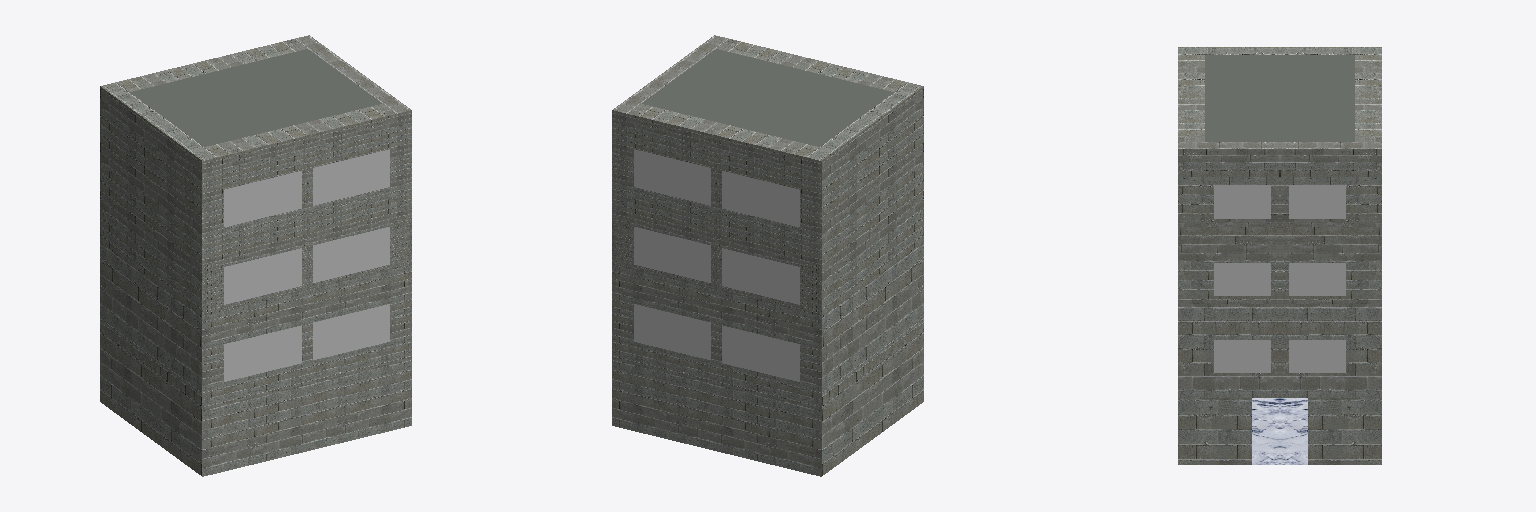
The picture shows the model from 3 angles: view 1: azimuth 30°, elevation 25°; view 2: azimuth 150°, elevation 25°; view 3: azimuth 270°, elevation 25°; orthographic projection.
Visible parts, largest first — view 1: Cube.001; view 2: Cube.001; view 3: Cube.001.
Boxes of the visible parts, x1,y1,x2,y2 form: Cube.001: [100, 35, 411, 476]; Cube.001: [612, 35, 923, 476]; Cube.001: [1178, 47, 1381, 464].
Size of the model in its own units: 8.8 by 12.68 by 7.45.
Materials: 3 (2 with a texture image).